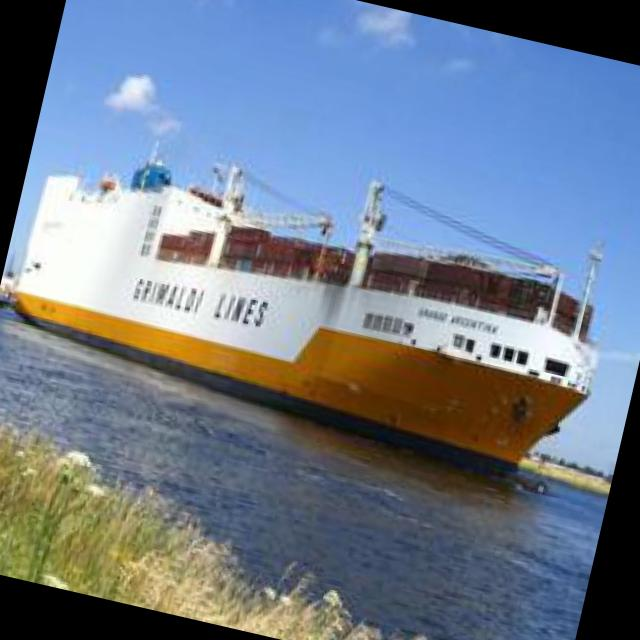boat: (0, 143, 613, 495)
